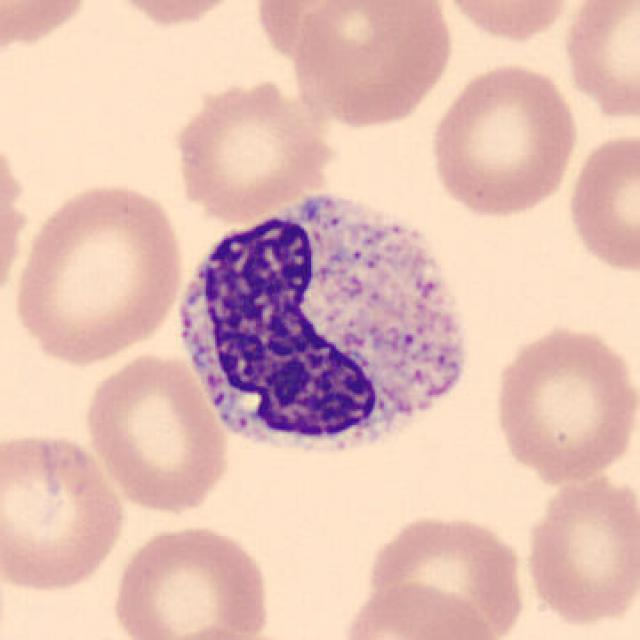Neutrophil: (165, 180, 482, 478)
RBC: (9, 176, 190, 368), (80, 349, 233, 517), (167, 74, 338, 224), (425, 58, 581, 222), (489, 321, 638, 485), (359, 508, 532, 638), (0, 425, 130, 598), (288, 0, 457, 132), (108, 522, 276, 640), (521, 469, 640, 629), (564, 129, 638, 277), (336, 576, 503, 640), (251, 0, 400, 69), (558, 0, 640, 125), (437, 0, 578, 46), (0, 127, 30, 314), (0, 0, 96, 55), (96, 0, 252, 30), (144, 622, 293, 640)
